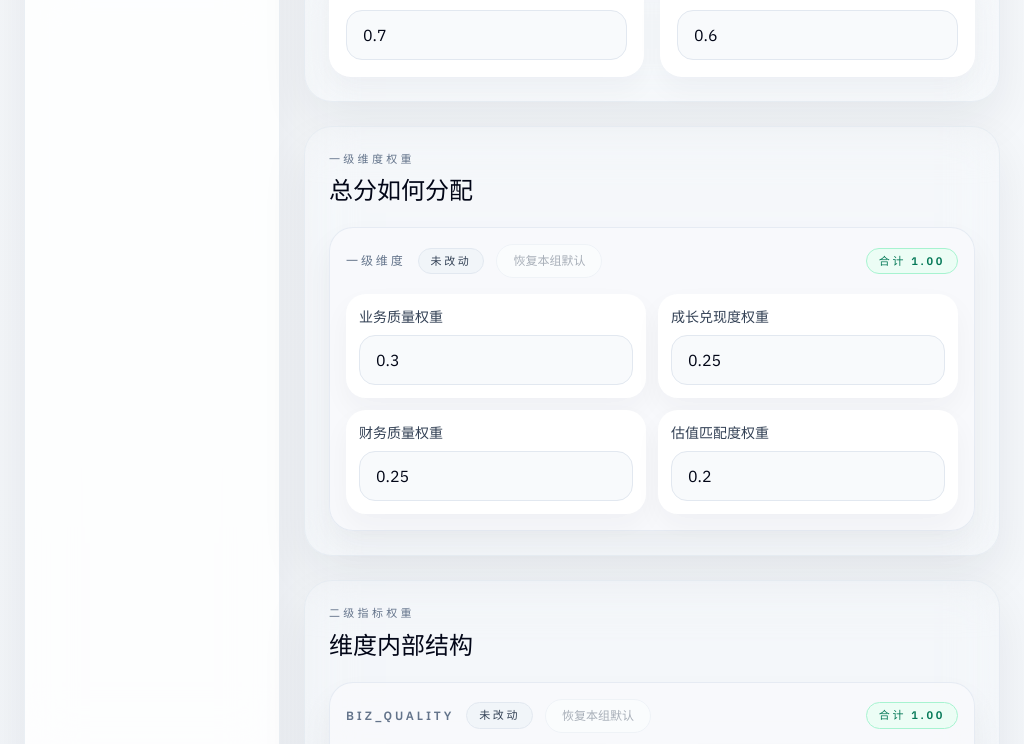
Test: LabPage › shows structure-specific summary when weights are unbalanced
(page scrolled)
Replace the text in the number field labelled "业务质量权重" with "0.4" at (496, 360), box x1=359 y1=335 x2=633 y2=385
(page scrolled)
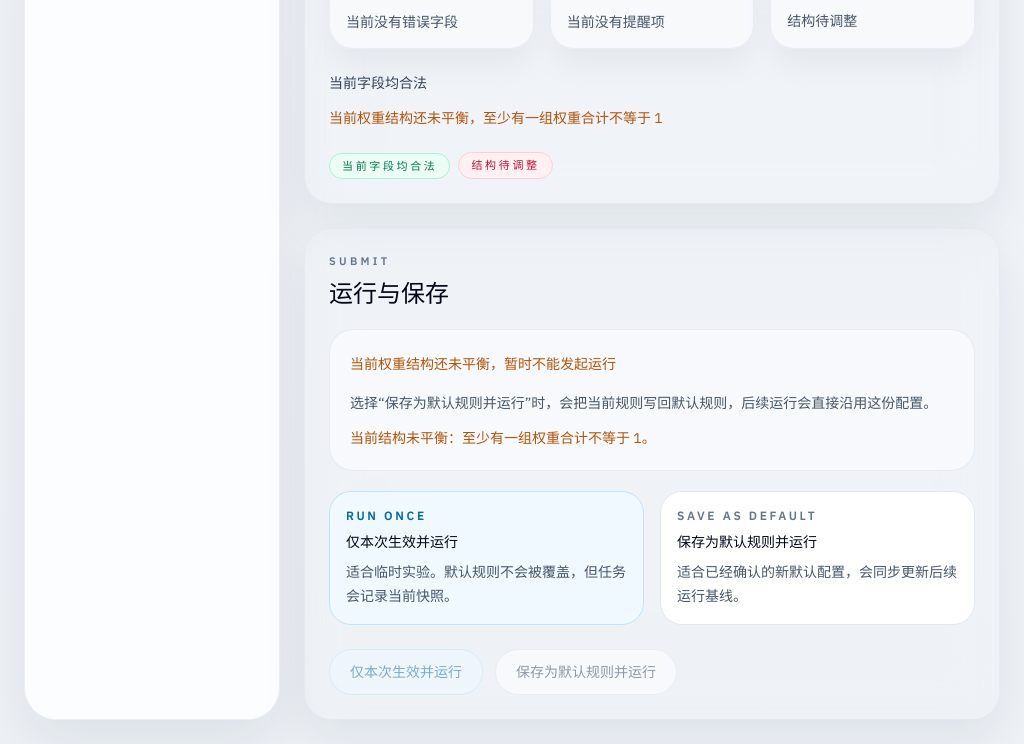
Expected: the text "当前权重结构还未平衡，至少有一组权重合计不等于 1" is shown, x1=329 y1=109 x2=663 y2=127
Expected: the text "当前权重结构还未平衡，暂时不能发起运行" is shown, x1=350 y1=355 x2=616 y2=373
Expected: the button "仅本次生效并运行" is disabled, x1=329 y1=649 x2=483 y2=695
